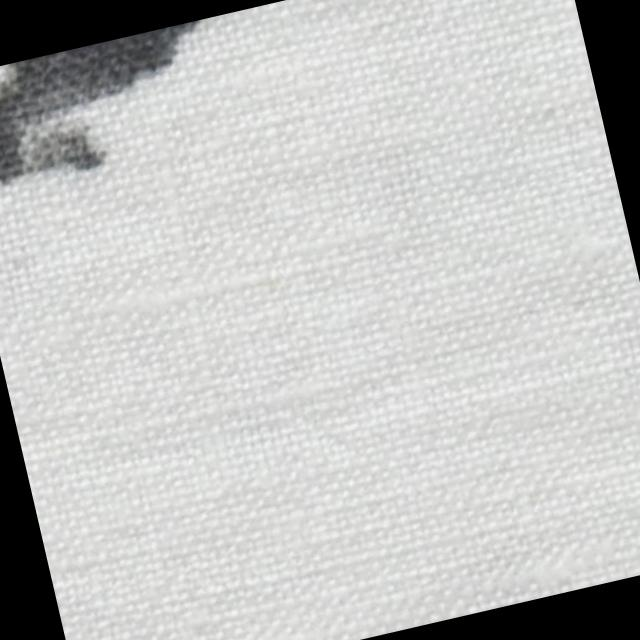Stain: (0, 19, 227, 199)
